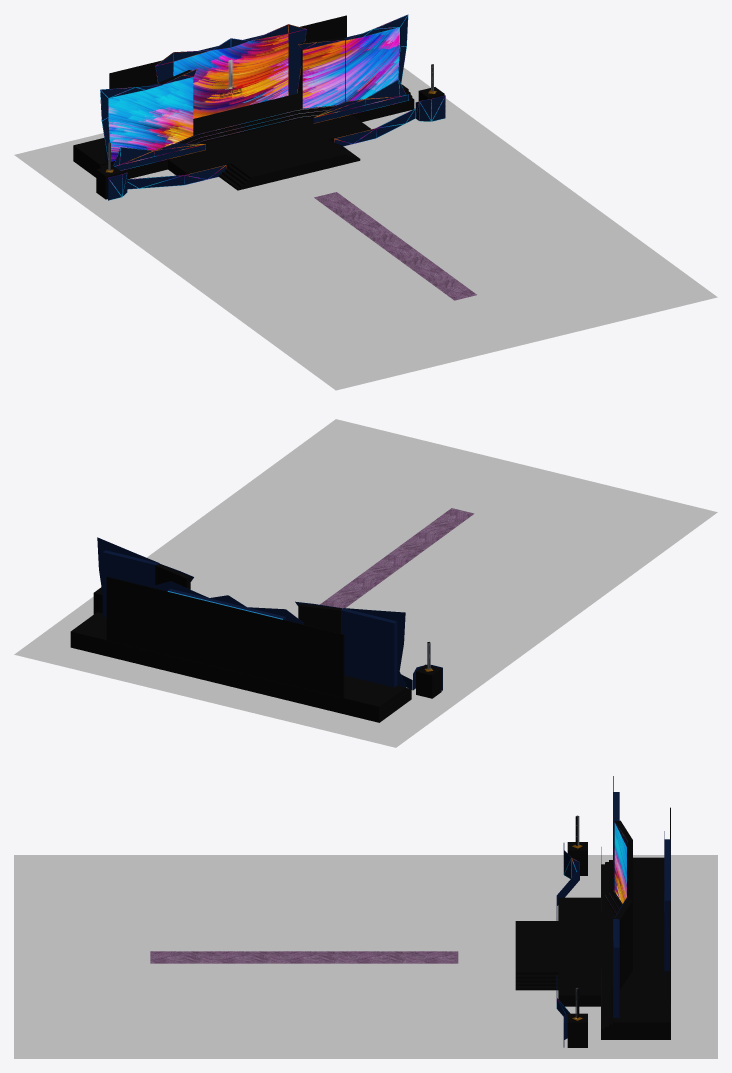
The picture shows the model from 3 angles, top to bottom: view 1: azimuth 30°, elevation 25°; view 2: azimuth 150°, elevation 25°; view 3: azimuth 270°, elevation 25°; orthographic projection. The views are drawn at different scales.
Parts seen in each view (by area): view 1: MaterialFBXASC032FBXASC0352142147588, MaterialFBXASC032FBXASC0357 (×5), floor, MaterialFBXASC032FBXASC0352142147589, MaterialFBXASC032FBXASC0358, MaterialFBXASC032FBXASC0351; view 2: MaterialFBXASC032FBXASC0352142147588, MaterialFBXASC032FBXASC0358, floor (×2), MaterialFBXASC032FBXASC0351 (×2), MaterialFBXASC032FBXASC0352142147589, MaterialFBXASC032FBXASC035367FBXASC032SlotFBXASC032FBXASC035; view 3: MaterialFBXASC032FBXASC0352142147588, floor (×3), MaterialFBXASC032FBXASC0352142147589, MaterialFBXASC032FBXASC0351 (×2), MaterialFBXASC032FBXASC035367FBXASC032SlotFBXASC032FBXASC035 (×2), MaterialFBXASC032FBXASC0357.
Part boxes in pixels (<box>): MaterialFBXASC032FBXASC0352142147588: <box>14,67,717,390</box>; MaterialFBXASC032FBXASC0357 (×5): <box>108,27,399,161</box>; floor: <box>73,84,414,190</box>; MaterialFBXASC032FBXASC0352142147589: <box>314,192,476,300</box>; MaterialFBXASC032FBXASC0358: <box>109,15,346,90</box>; MaterialFBXASC032FBXASC0351: <box>288,29,306,95</box>; MaterialFBXASC032FBXASC0352142147588: <box>14,419,717,747</box>; MaterialFBXASC032FBXASC0358: <box>106,576,344,697</box>; floor (×2): <box>70,612,441,722</box>; MaterialFBXASC032FBXASC0351 (×2): <box>102,550,397,687</box>; MaterialFBXASC032FBXASC0352142147589: <box>320,508,474,608</box>; MaterialFBXASC032FBXASC035367FBXASC032SlotFBXASC032FBXASC035: <box>298,606,340,633</box>; MaterialFBXASC032FBXASC0352142147588: <box>14,855,717,1058</box>; floor (×3): <box>515,842,670,1047</box>; MaterialFBXASC032FBXASC0352142147589: <box>150,951,458,963</box>; MaterialFBXASC032FBXASC0351 (×2): <box>613,839,670,1017</box>; MaterialFBXASC032FBXASC035367FBXASC032SlotFBXASC032FBXASC035 (×2): <box>615,820,632,988</box>; MaterialFBXASC032FBXASC0357: <box>614,823,626,903</box>.
Size of the model in its own units: 470 by 107 by 686.
